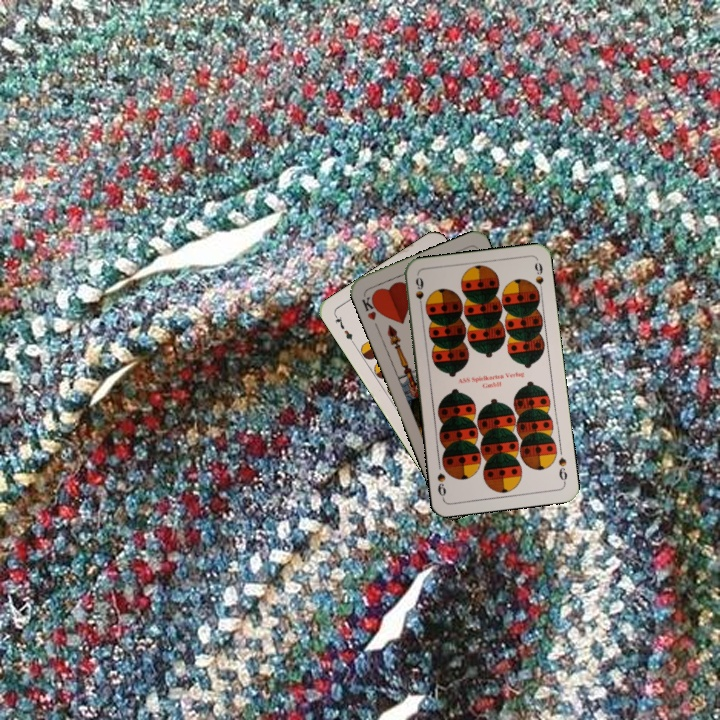E7: (330, 311, 358, 347)
HK: (358, 291, 383, 323)
S9: (411, 273, 426, 313), (554, 453, 570, 486)
